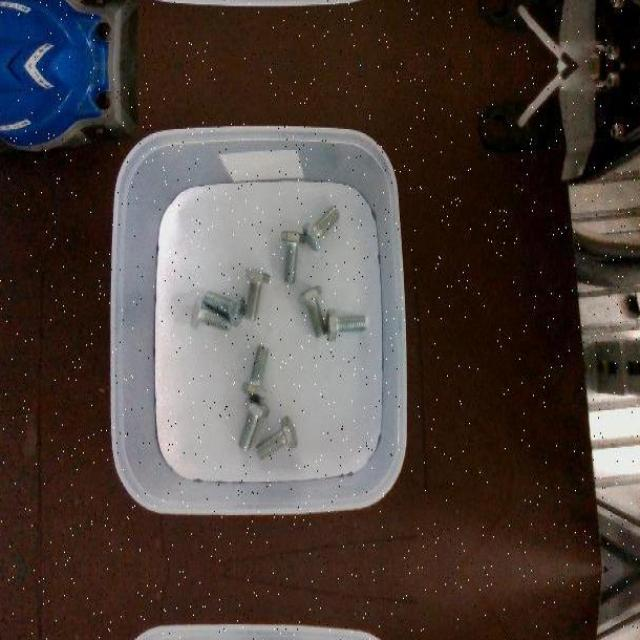screw: (255, 415, 298, 459), (303, 205, 341, 252), (238, 398, 270, 450), (241, 343, 270, 399), (202, 290, 245, 326), (190, 295, 234, 330), (299, 284, 326, 338), (244, 266, 270, 320), (325, 308, 366, 342), (282, 230, 306, 283)
